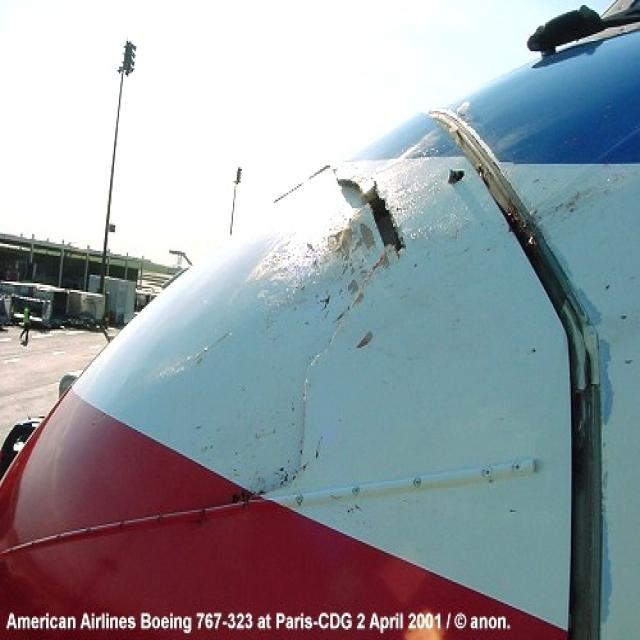crack: (333, 172, 370, 205)
